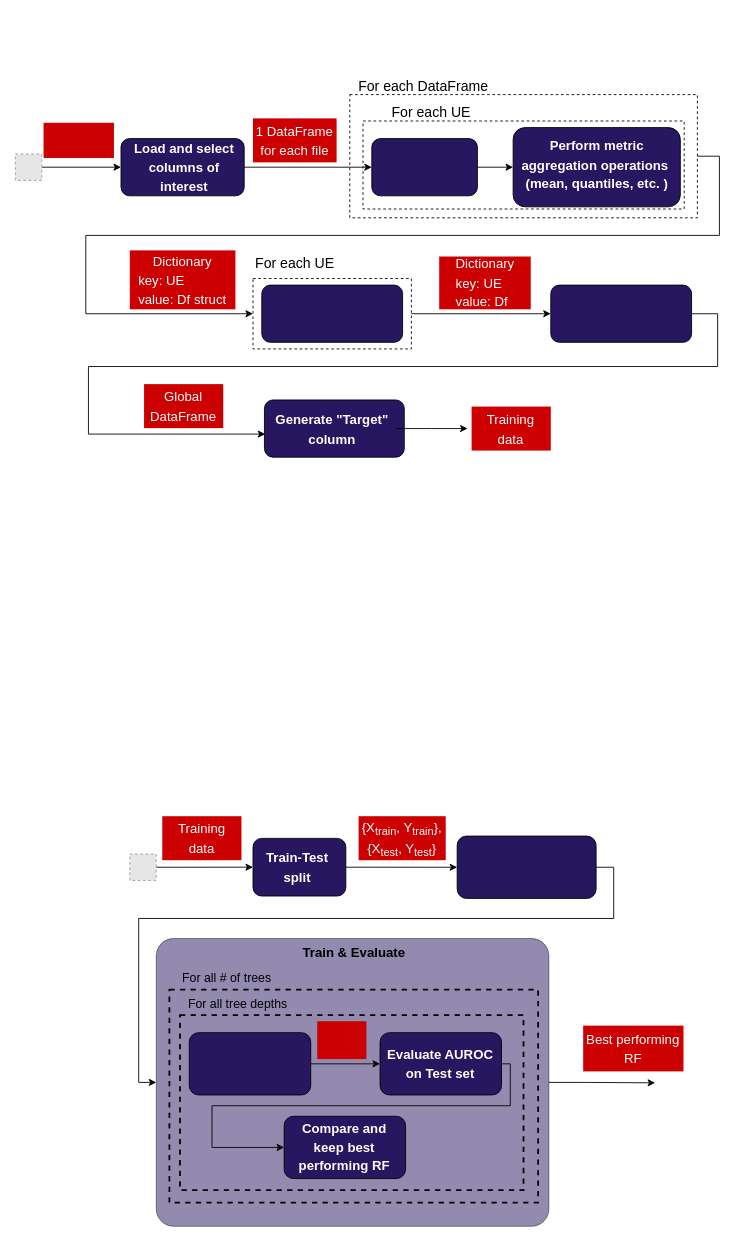
Some shapes in this 742 by 1242 pixel diagram are drawn without their labels. Grey dashed boxes stand in for pictures. The shapes that lost their labels are listed below. From the top down, each one's centre as x and y in pixels, then its label:
At [78,140]: "Raw Trace files".
At [424,167]: "Extract DataFrame for UE".
At [332,313]: "Aggregate UE Df-struct into 1 DataFrame".
At [621,313]: "Aggregate all UE Dataframes into 1".
At [526,866]: "Possible oversampling of minority class".
At [341,1040]: "Trained RF".
At [249,1063]: "Stratified Cross-Validation on Train set".
